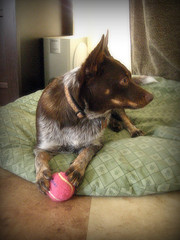tennis ball: (45, 171, 75, 203)
